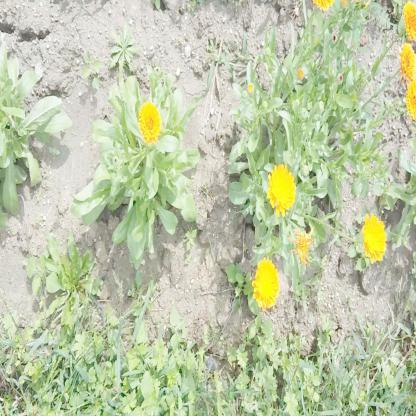marigold: (268, 163, 296, 210), (254, 260, 278, 306), (362, 214, 385, 258), (137, 101, 161, 140), (396, 40, 416, 81), (401, 1, 416, 40)
